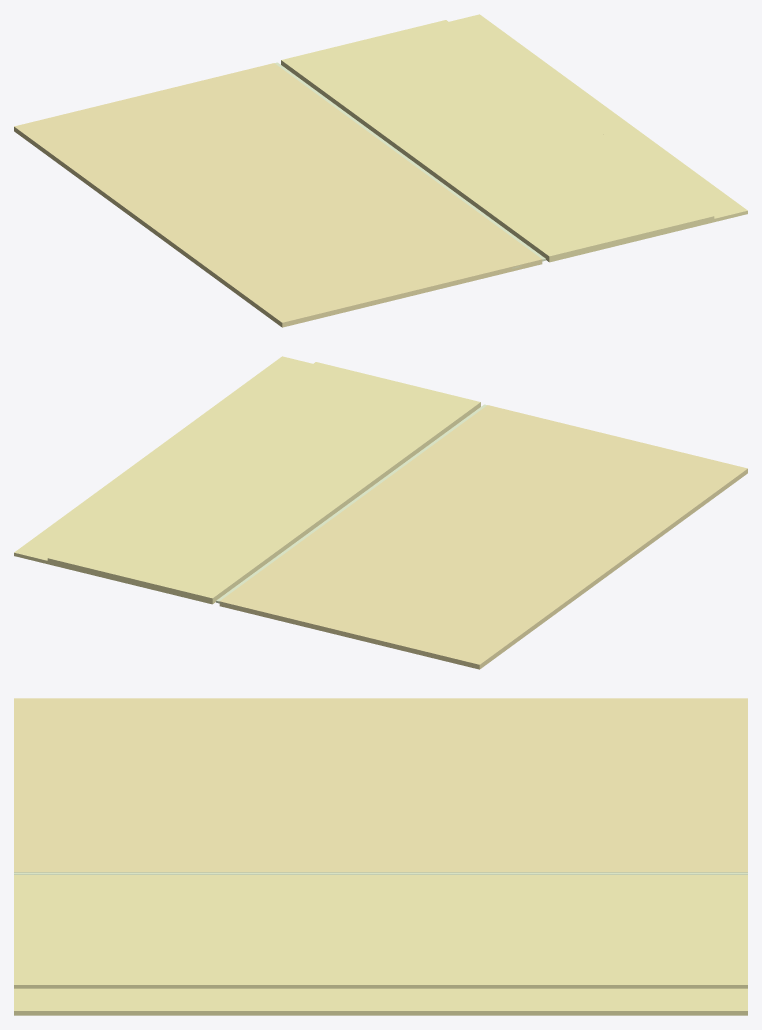
File: road_bridge_approach_slab.glb
The picture shows the model from 3 angles, top to bottom: view 1: azimuth 30°, elevation 25°; view 2: azimuth 150°, elevation 25°; view 3: azimuth 270°, elevation 25°; orthographic projection. The views are drawn at different scales.
Parts seen in each view (by area): view 1: approach_lane, approach_slab, shoulder_strip, seat_band; view 2: approach_lane, approach_slab, shoulder_strip, seat_band; view 3: approach_lane, approach_slab, shoulder_strip, seat_band.
Boxes of the visible parts, x1,y1,x2,y2 form: approach_lane: [14, 63, 542, 327]; approach_slab: [281, 20, 714, 262]; shoulder_strip: [449, 14, 747, 223]; seat_band: [275, 62, 545, 261]; approach_lane: [219, 405, 747, 669]; approach_slab: [47, 362, 480, 604]; shoulder_strip: [14, 356, 312, 564]; seat_band: [216, 404, 486, 607]; approach_lane: [14, 698, 747, 872]; approach_slab: [14, 875, 747, 988]; shoulder_strip: [14, 988, 747, 1015]; seat_band: [14, 872, 747, 874].
Size of the model in its own units: 4.01 by 0.05 by 4.
